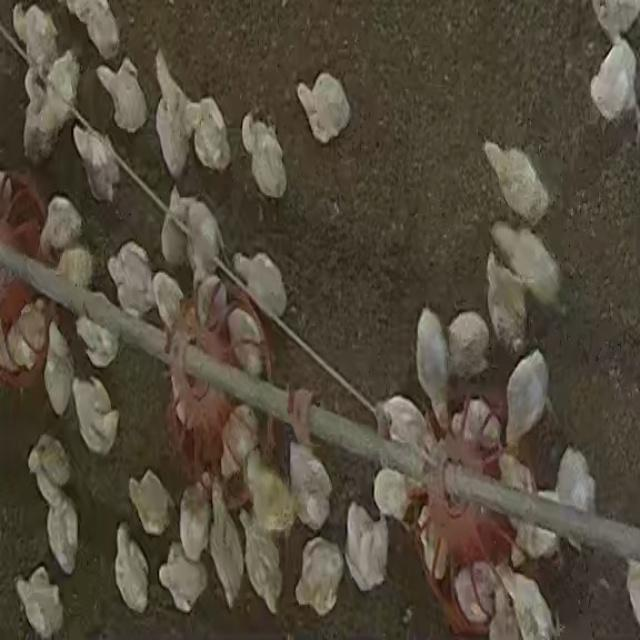chicken: (584, 36, 640, 138), (482, 140, 549, 220), (340, 499, 393, 596), (292, 66, 356, 146), (495, 562, 559, 639), (412, 306, 452, 426), (208, 485, 246, 611), (503, 346, 549, 449), (286, 439, 334, 534), (242, 512, 286, 614), (71, 122, 122, 205), (106, 242, 160, 320), (374, 393, 430, 468), (240, 112, 288, 198), (231, 250, 288, 322), (294, 534, 344, 616), (70, 375, 120, 456), (95, 58, 147, 134), (157, 539, 206, 615), (15, 565, 65, 635), (415, 500, 453, 587), (190, 96, 232, 174), (224, 308, 272, 376), (112, 523, 148, 613), (127, 468, 174, 536), (154, 95, 189, 182), (43, 325, 76, 417), (46, 486, 80, 574), (454, 561, 498, 629), (178, 481, 212, 561), (220, 406, 258, 476), (74, 313, 120, 369), (451, 396, 500, 447), (159, 188, 189, 270), (372, 466, 414, 524), (152, 271, 185, 331), (195, 272, 223, 331)
